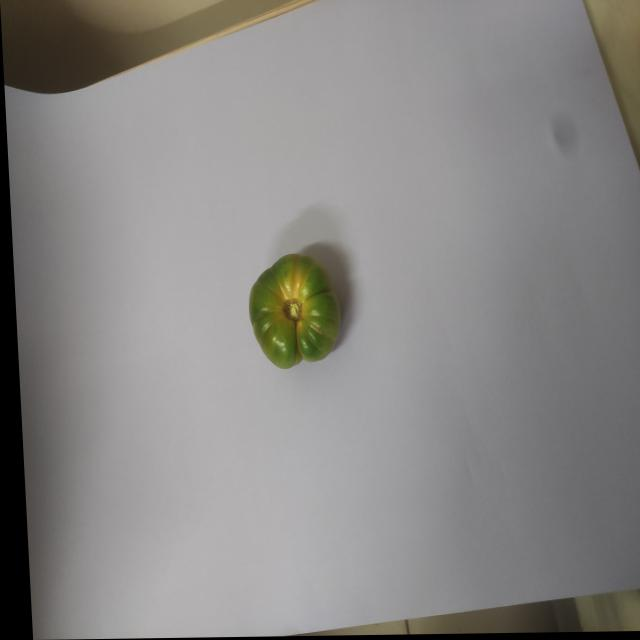yesil: (229, 252, 356, 379)
